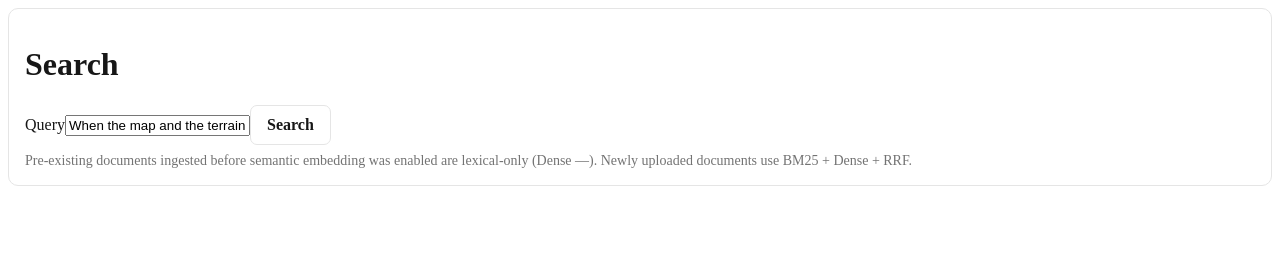
Test: SearchPage error states › renders a retryable backend-unavailable message
Click the button "Search": (290, 125) [250, 105, 331, 145]
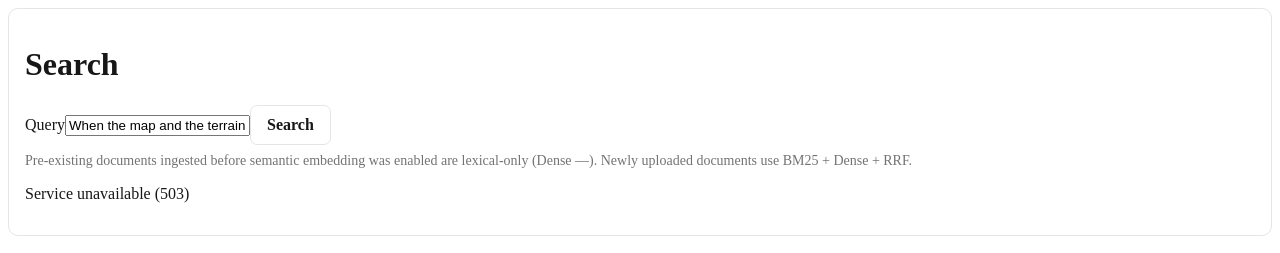
Expected: the message shows "Service unavailable", [25, 185, 189, 202]
